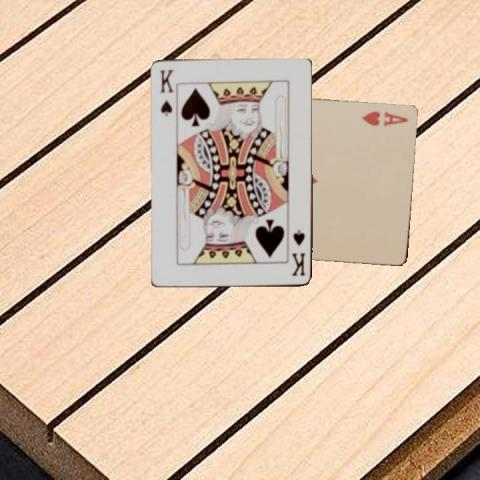Ah: (360, 108, 410, 127)
Ks: (289, 227, 308, 278), (158, 67, 176, 118)
